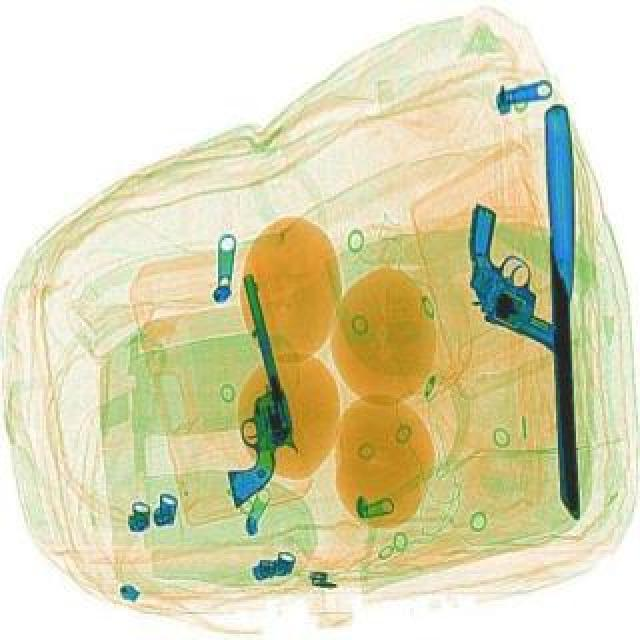gun: (178, 272, 310, 508), (424, 200, 604, 352)
knife: (542, 104, 582, 518)
